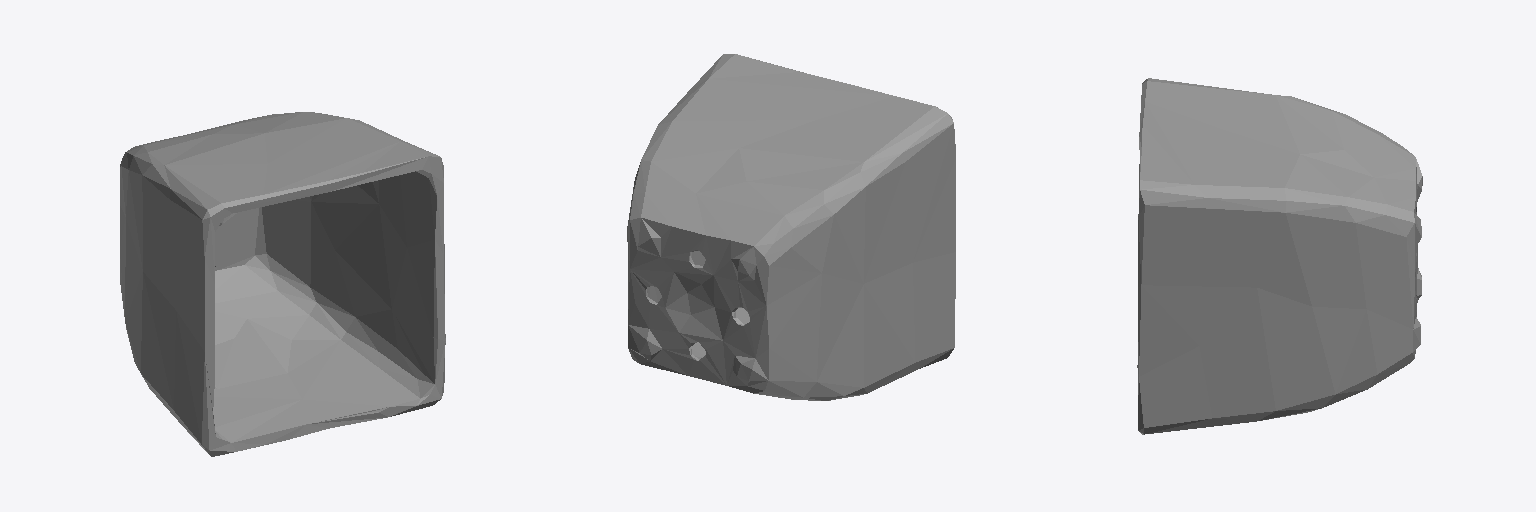
Rendered from model_lGzQi2Pk5uC.obj.
3 views of the same model, side by side, from view 1: azimuth 30°, elevation 25°; view 2: azimuth 150°, elevation 25°; view 3: azimuth 270°, elevation 25° (orthographic).
Parts seen in each view (by area): view 1: model; view 2: model; view 3: model.
Boxes of the visible parts, <box> form: model: <box>120,112,445,456</box>; model: <box>627,54,955,400</box>; model: <box>1137,78,1422,434</box>.
Bounding box in the file's own units: 0.0881 × 0.0879 × 0.0902.